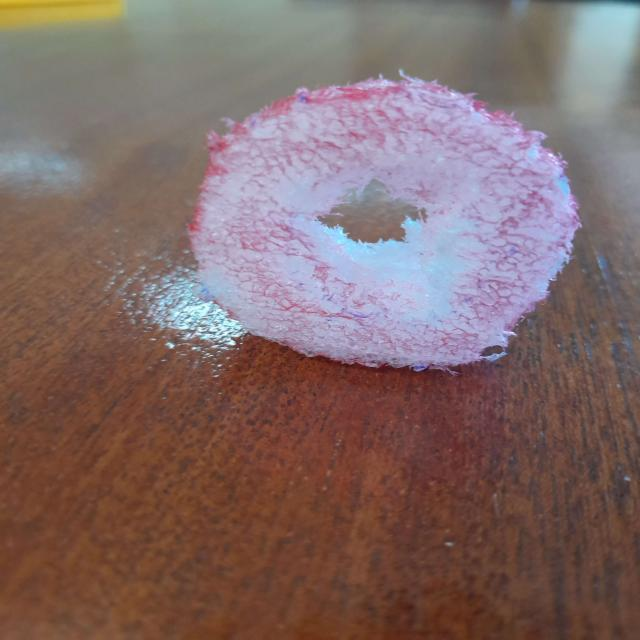wheel: (182, 73, 587, 376)
